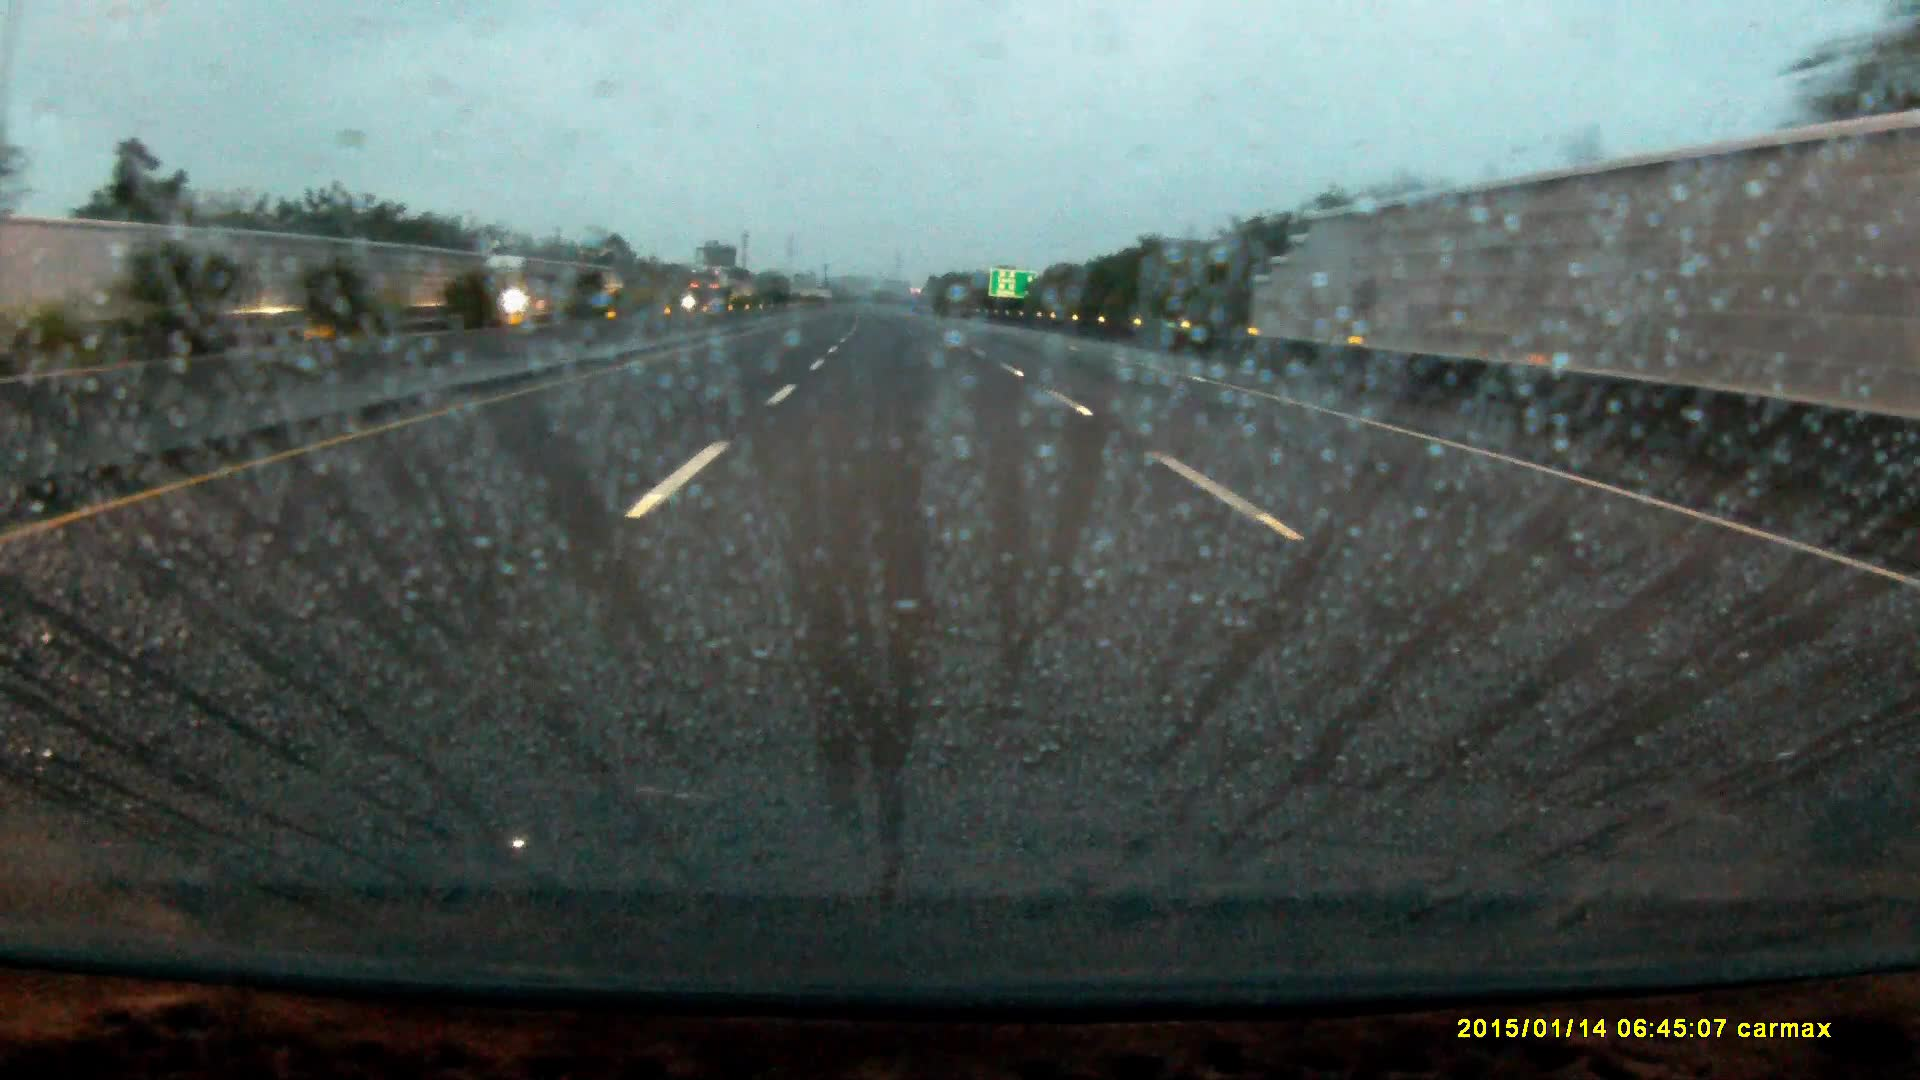vehicle: (483, 255, 568, 320), (691, 276, 733, 311)
